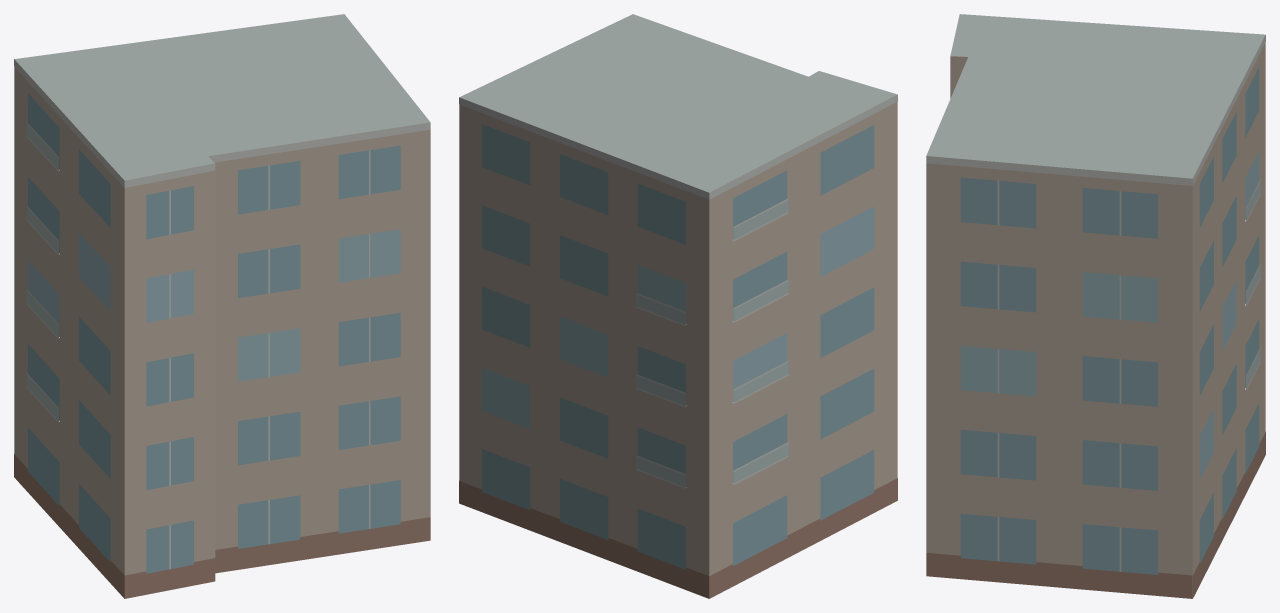
Rendered from survey-upis-32645497.glb.
3 views of the same model, side by side, from view 1: azimuth 30°, elevation 25°; view 2: azimuth 150°, elevation 25°; view 3: azimuth 270°, elevation 25° (orthographic). The views are drawn at different scales.
Parts seen in each view (by area): view 1: survey-upis-32645497.tmp; view 2: survey-upis-32645497.tmp; view 3: survey-upis-32645497.tmp.
Boxes of the visible parts, box(x1,y1,x2,y2) form: survey-upis-32645497.tmp: box(14, 14, 430, 598); survey-upis-32645497.tmp: box(459, 14, 897, 598); survey-upis-32645497.tmp: box(926, 14, 1265, 598).
Size of the model in its own units: 11.77 by 14 by 10.26.
